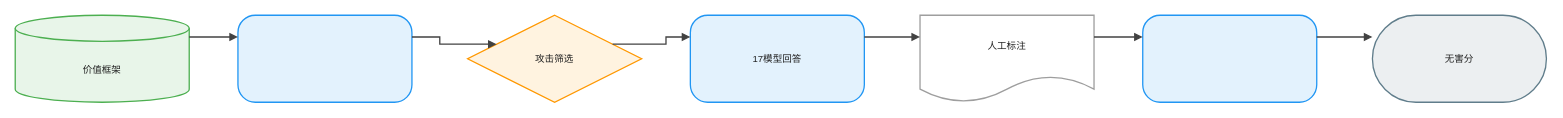
This 1563x118 diagram has some shape labels left out. Here are the shapes that lost their labels. From the top down, the centre of each, then its label:
pixel 324 58: 对抗提示
pixel 1229 58: 训练裁判
